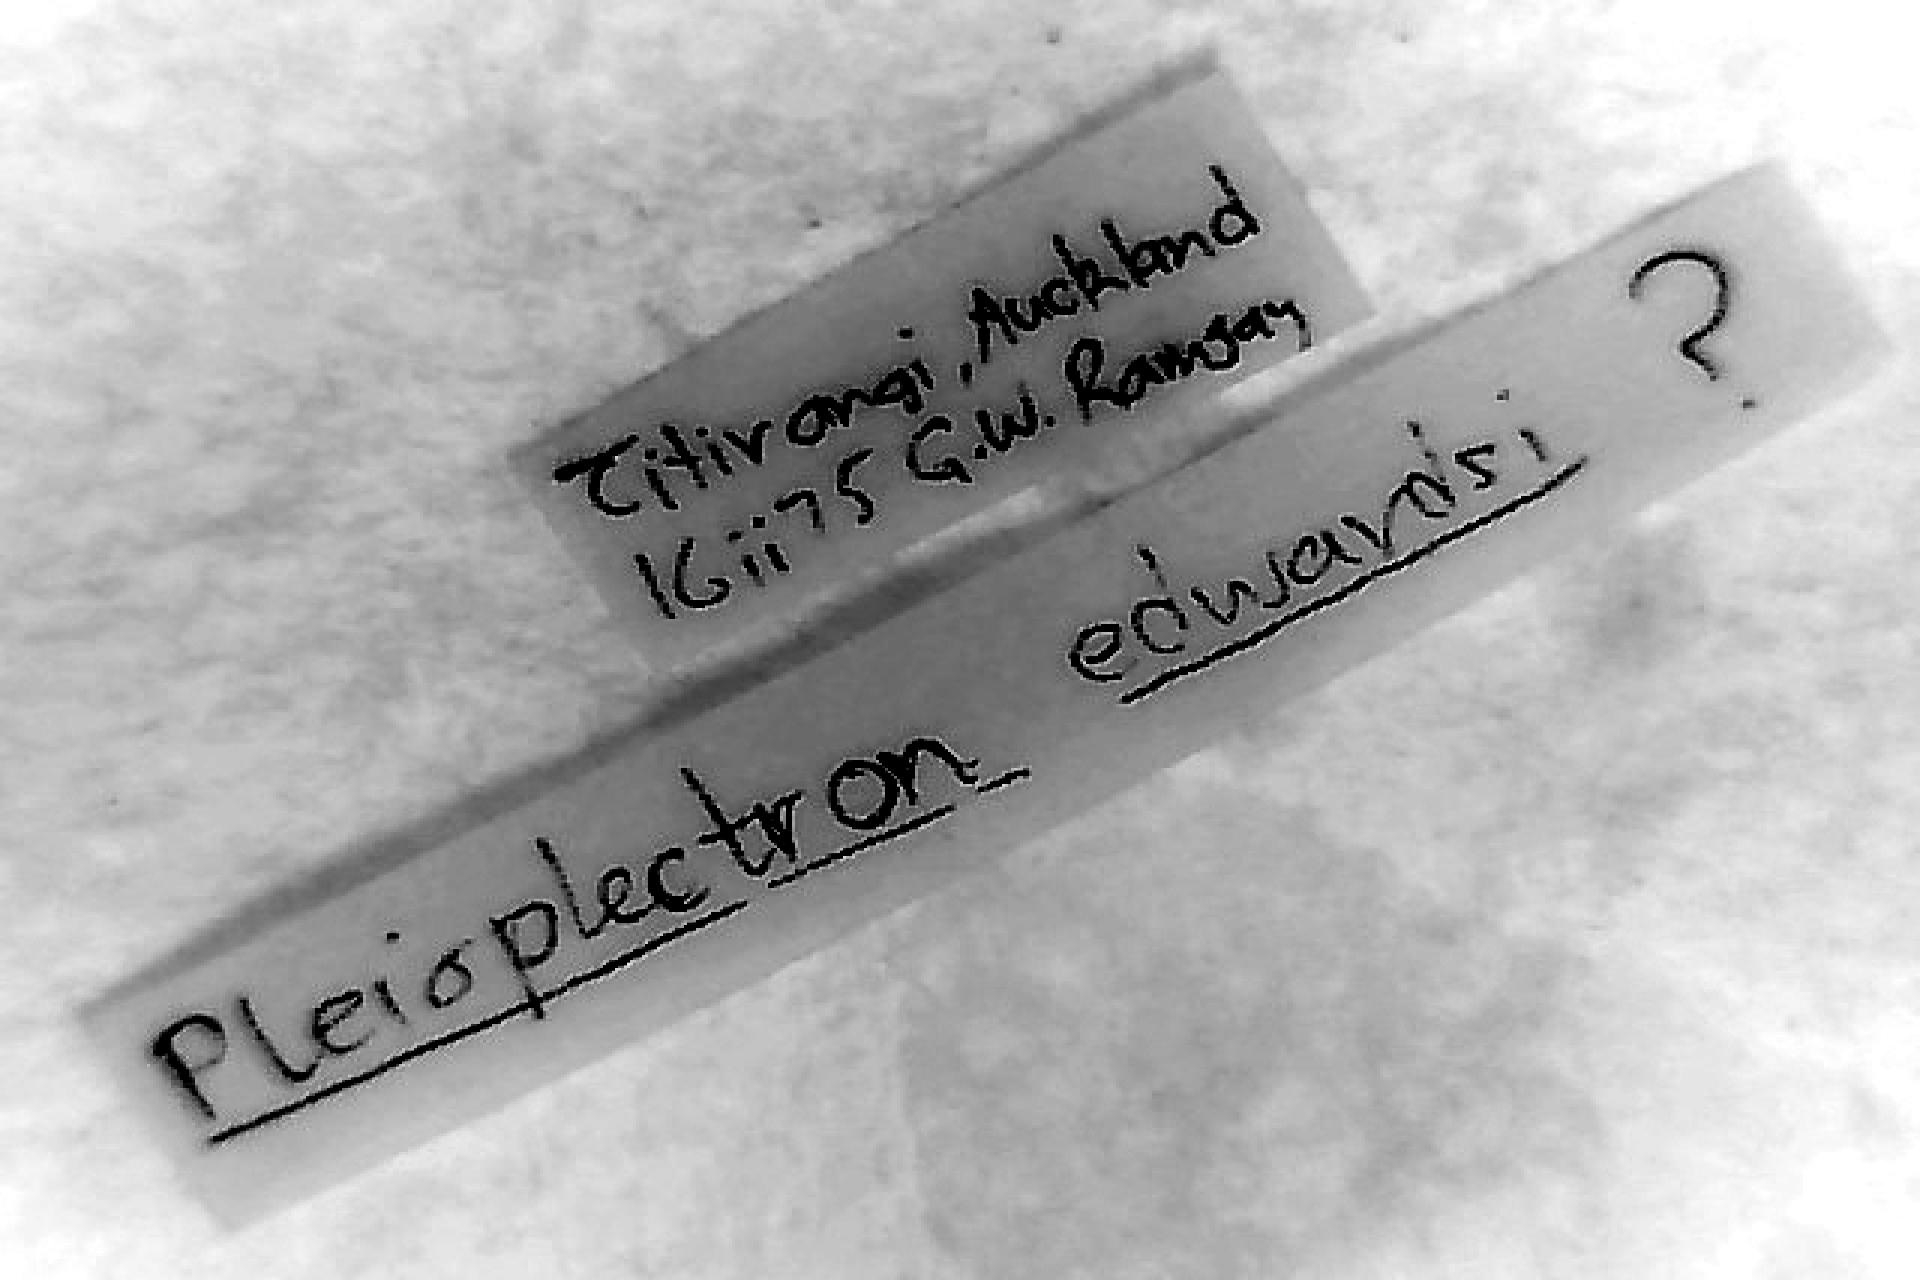hand_label: (90, 167, 1886, 1225), (521, 73, 1369, 667)
